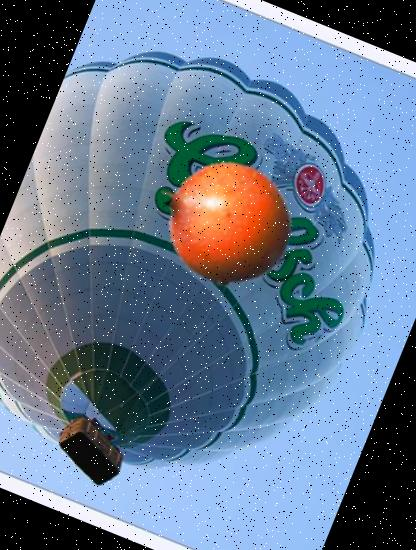Granadilla: (133, 132, 314, 313)
